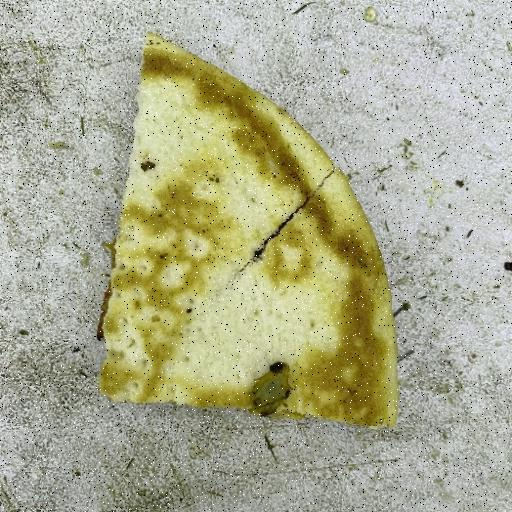Waste: (96, 30, 400, 428)
